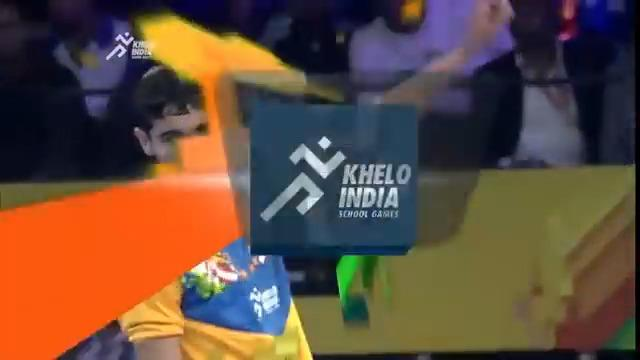Raider: (57, 60, 315, 359)
referee: (466, 1, 589, 168), (1, 1, 102, 181), (102, 62, 209, 179), (561, 19, 618, 164)
